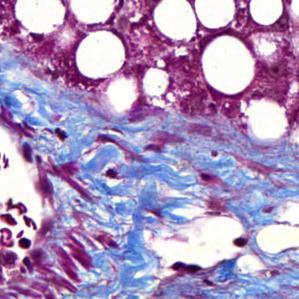steatosis: (201, 34, 257, 96), (193, 0, 235, 30), (249, 1, 283, 25)
